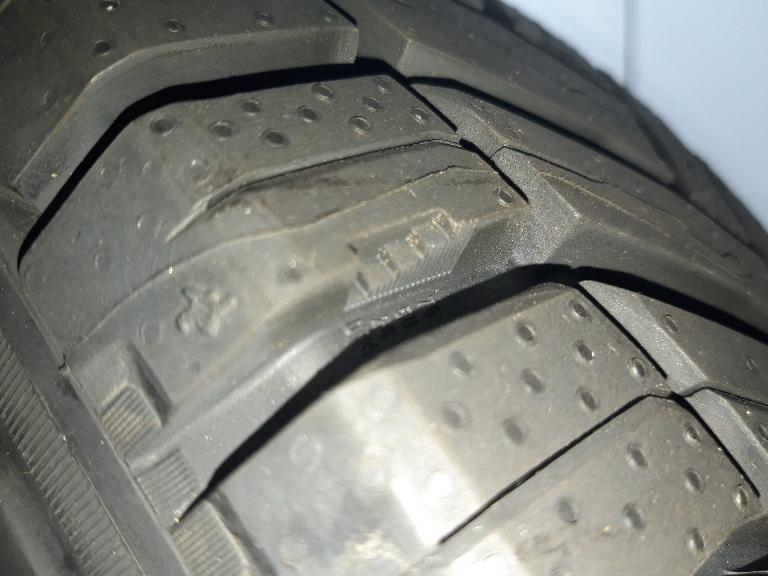temoin:100: (338, 204, 480, 316)
